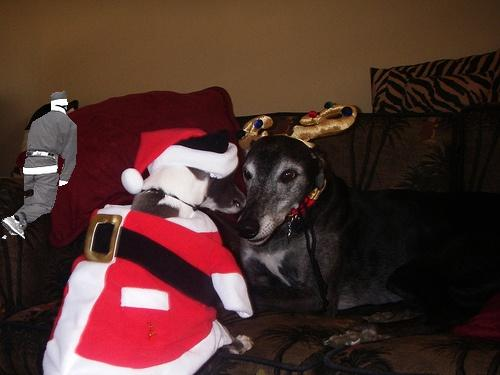tampered: (2, 92, 77, 239)
